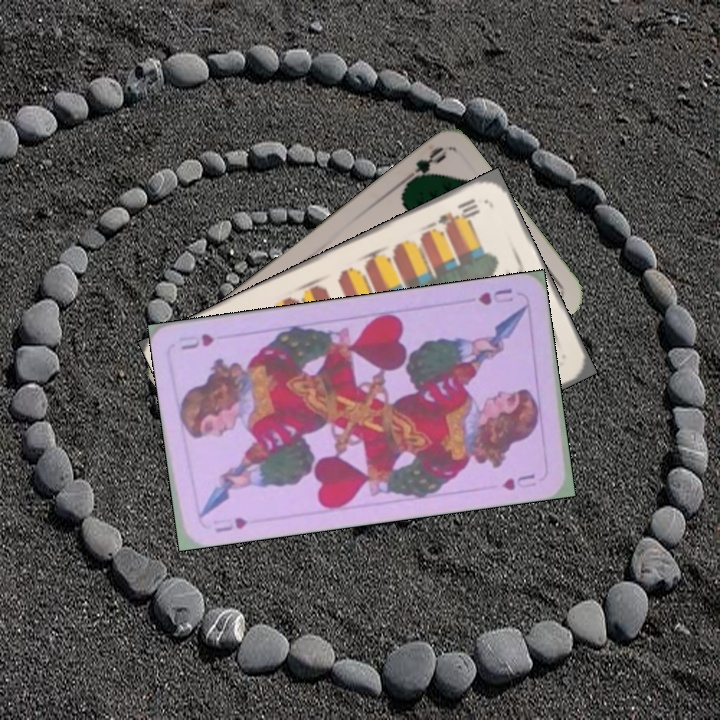E10: (434, 194, 483, 231)
GO: (395, 143, 449, 191)
HU: (474, 284, 516, 308), (211, 513, 251, 535)
